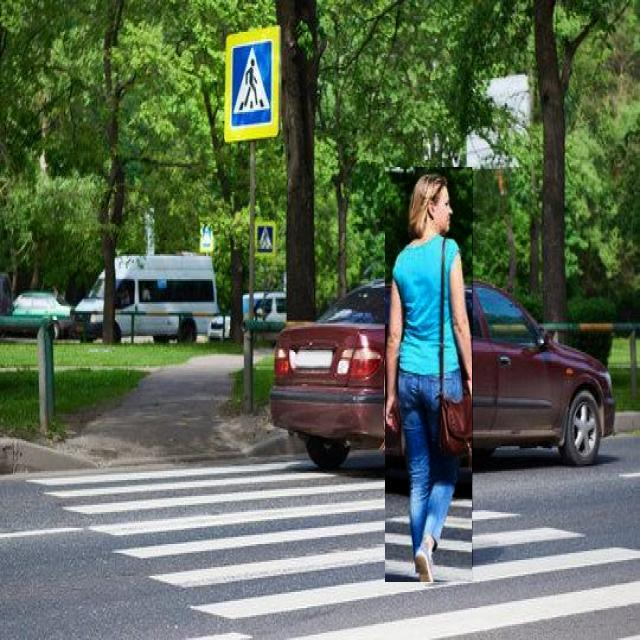without scooter: (386, 168, 474, 582)
